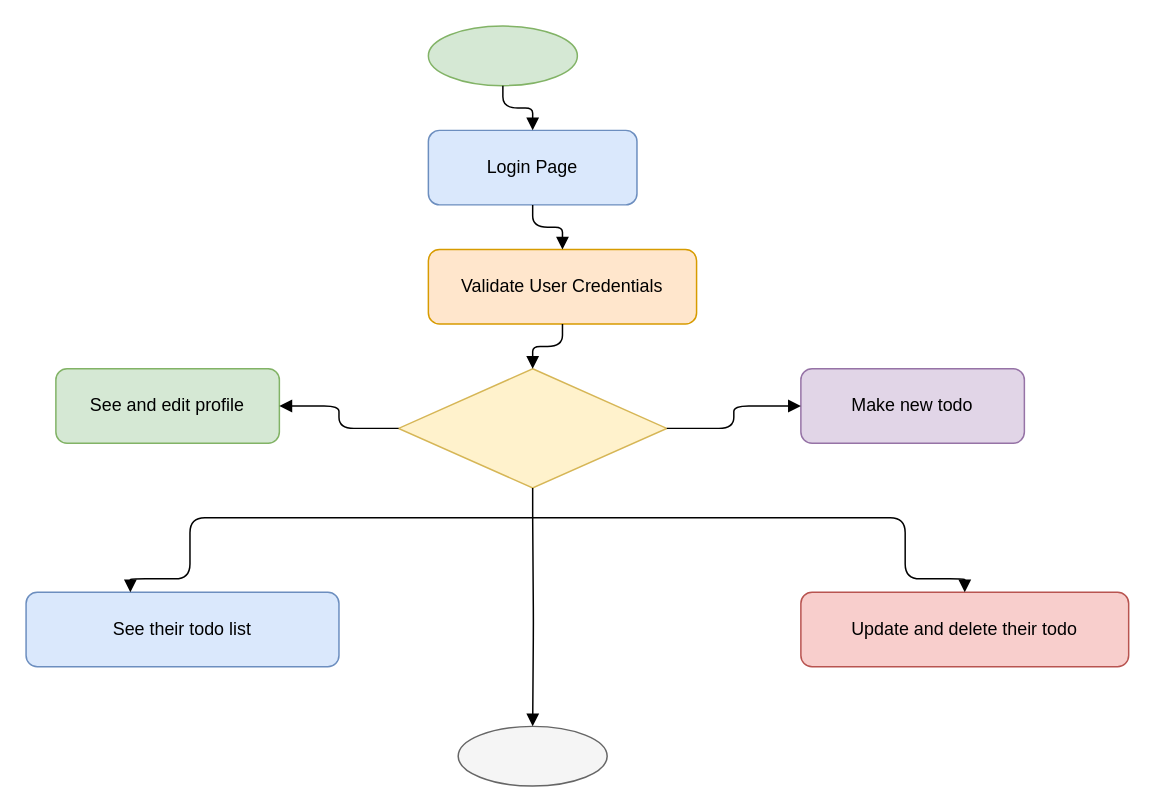
The diagram is 1155 pixels wide and 812 high, and some of its shapes have lost their labels. The box of each missing label's shape, as (x1, y1, x2, y2) in pixels:
Logout (User): (457, 725, 607, 786)
Register: (427, 25, 577, 86)
User Dashboard: (397, 367, 667, 488)
